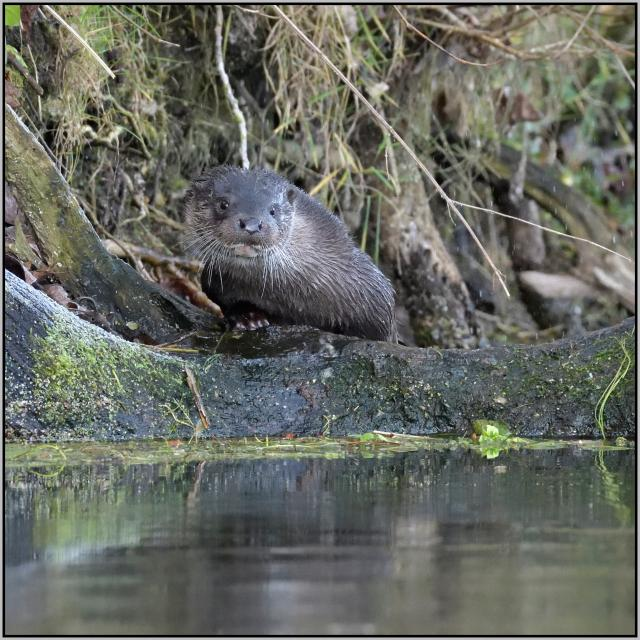otter: (183, 167, 396, 338)
